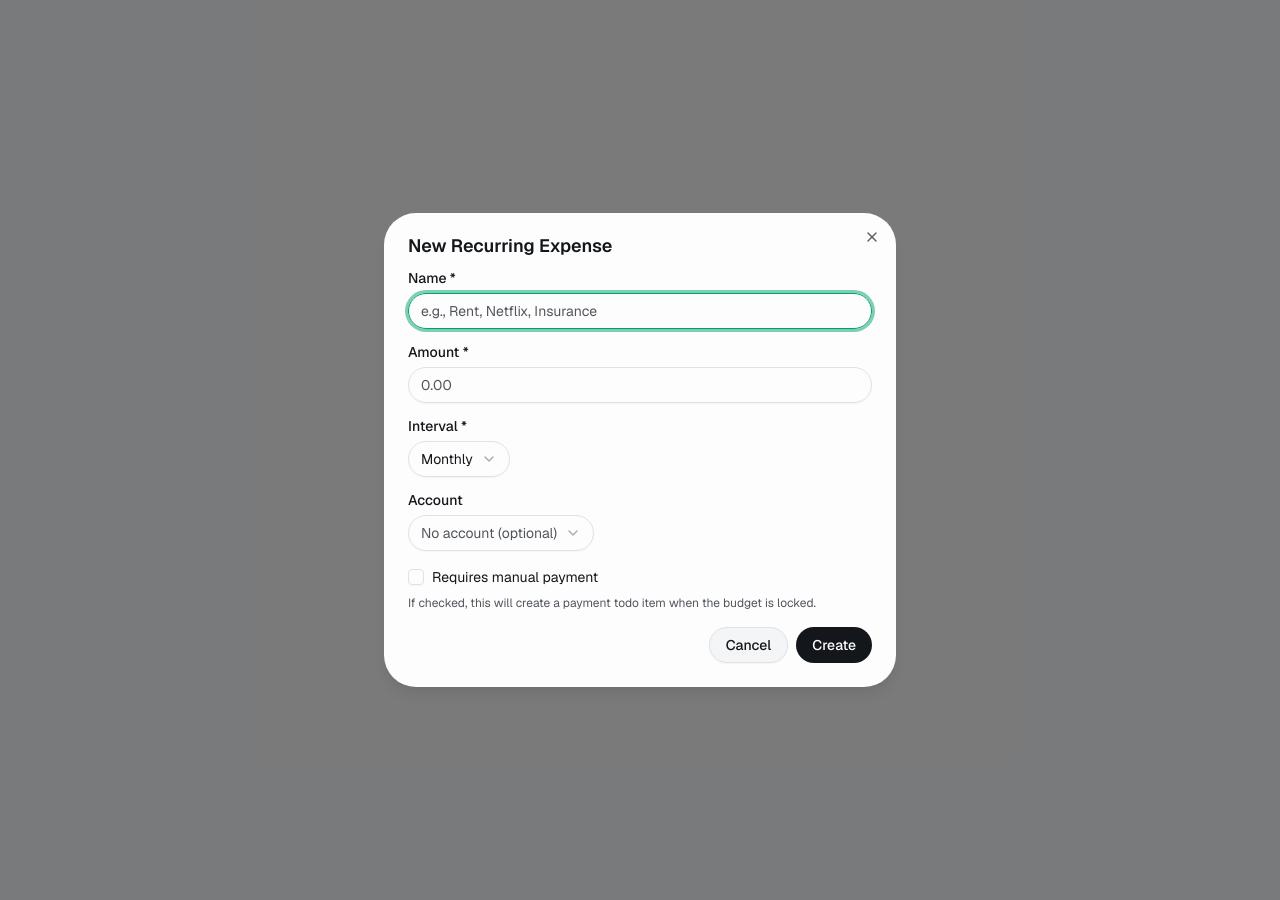
Test case: CreateRecurringExpenseModal › shows validation error for invalid amount
Type "Test" into the field labelled "Name *" at [640, 311], box [408, 293, 872, 329]
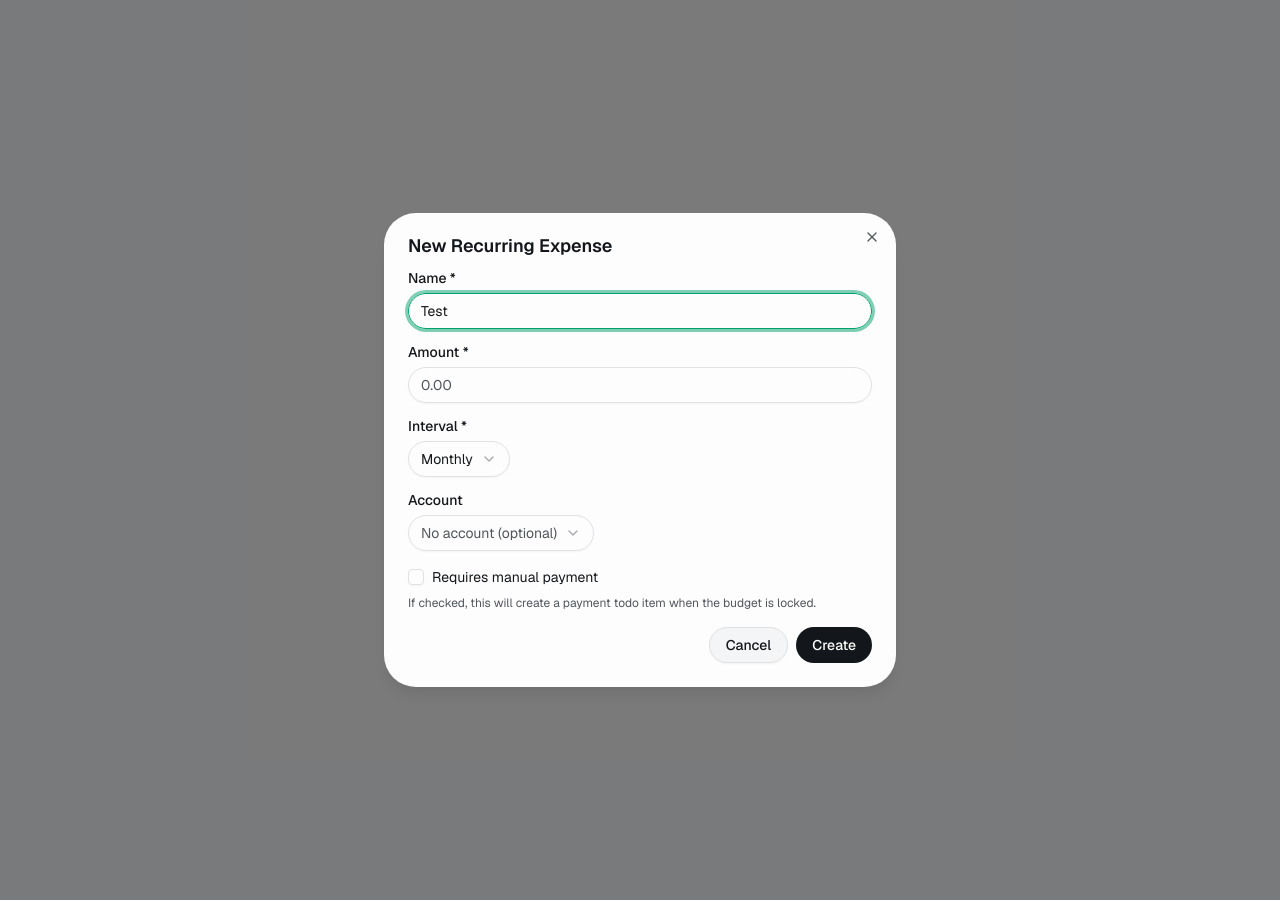
Type "-100" into the number field labelled "Amount *" at [640, 385], box [408, 367, 872, 403]
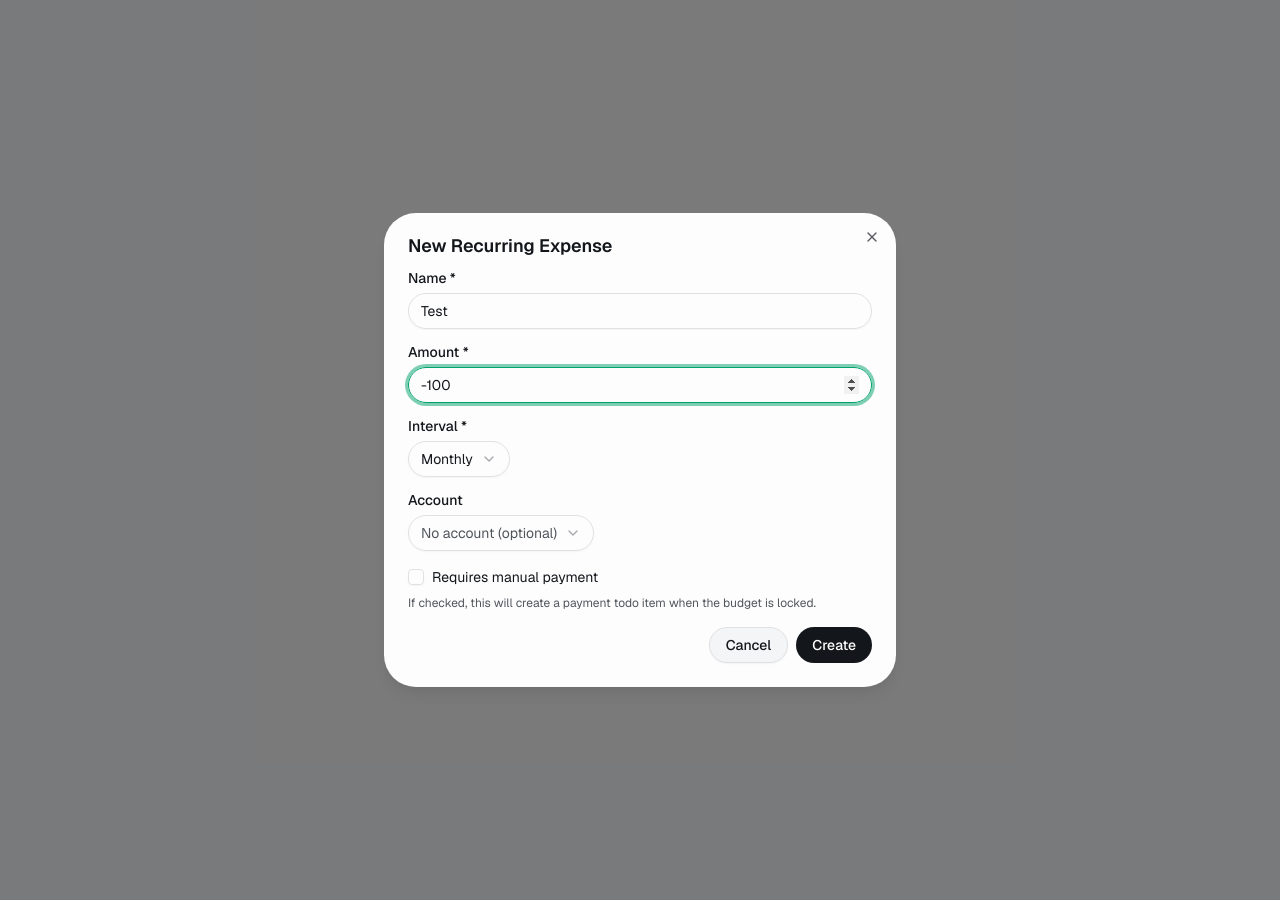
Click the button "Create" at [834, 645], box [796, 627, 872, 663]
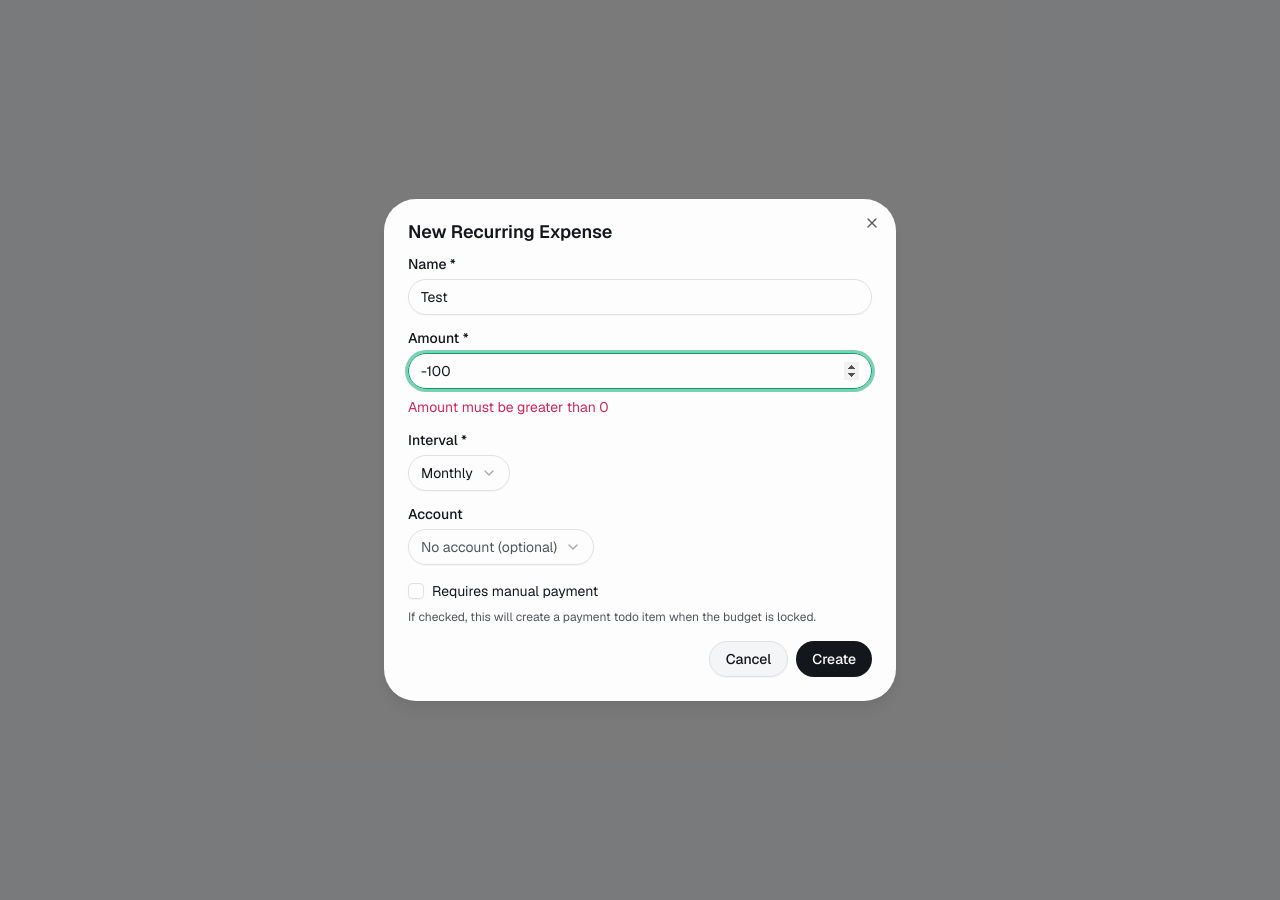
Expected: the text "Amount must be greater than 0" is shown, [408, 398, 609, 416]
